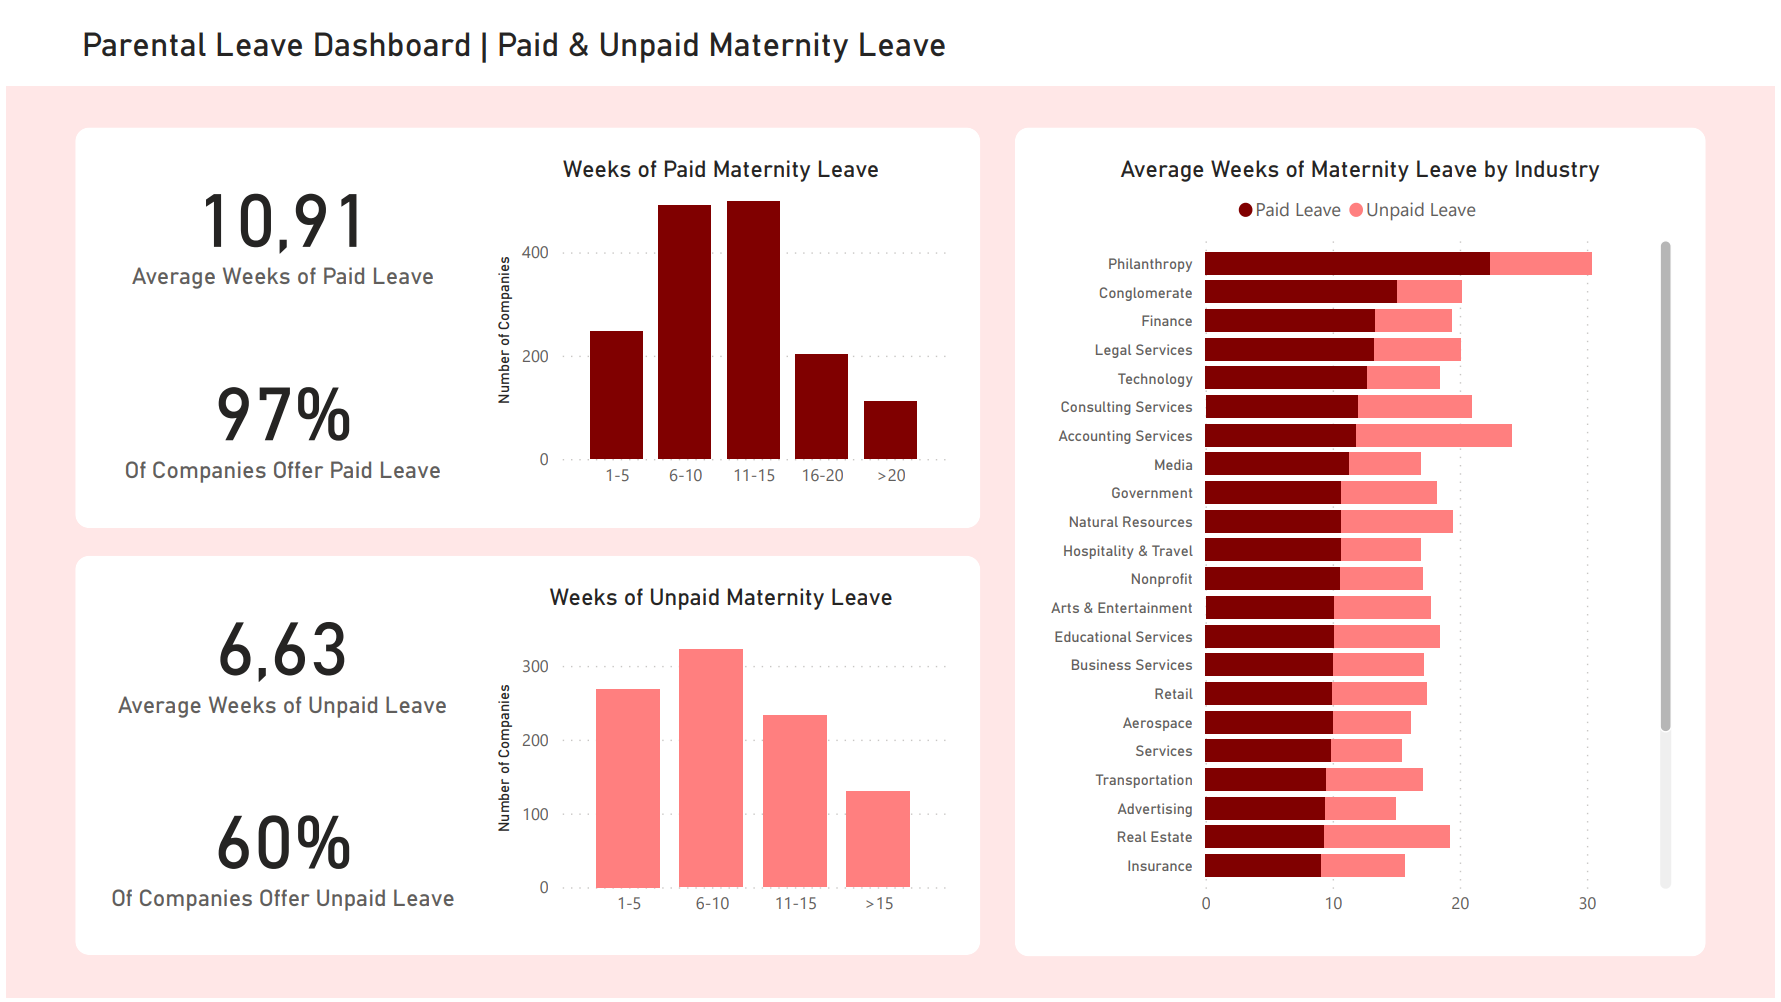

What the dashboard file says about the page in this screenshot:
{"tool":"powerbi","page":{"name":"Mother's","canvas":[1280,720],"ordinal":0},"visuals":[{"type":"shape","box":[0,0,1280,60.1],"z":0},{"type":"shape","box":[50,400,655,289.3],"z":1000},{"type":"shape","box":[50,90,655,290],"z":2000},{"type":"shape","box":[730,90,500,600],"z":3000},{"type":"barChart","title":"Average Weeks of Maternity Leave by Industry","fields":{"Category":["ParentalLeave.Industry"],"Y":["Avg(ParentalLeave.Paid Maternity Leave)","Avg(ParentalLeave.Unpaid Maternity Leave)"]},"box":[750,110,460,560],"z":4000},{"type":"card","fields":{"Values":["Avg(ParentalLeave.Paid Maternity Leave)"]},"box":[70.1,90,260.4,140.2],"z":5000},{"type":"card","fields":{"Values":["Avg(ParentalLeave.Unpaid Maternity Leave)"]},"box":[70,400,260.4,140],"z":6000},{"type":"card","title":"% Companies Offering Paid Leave","fields":{"Values":["ParentalLeave.%CompaniesPaidMaternityLeave"]},"box":[70.1,230,260.4,140.2],"z":7000},{"type":"card","title":"% Companies Offering Unpaid Leave","fields":{"Values":["ParentalLeave.%CompaniesUnpaidMaternityLeave"]},"box":[70.1,540,260.4,140.2],"z":8000},{"type":"columnChart","title":"Weeks of Unpaid Maternity Leave","fields":{"Y":["CountNonNull(ParentalLeave.Company)"],"Category":["ParentalLeave.UnpaidMaternityGroup"]},"box":[350,420,335,250],"z":9000},{"type":"clusteredColumnChart","title":"Weeks of Paid Maternity Leave","fields":{"Y":["CountNonNull(ParentalLeave.Company)"],"Category":["ParentalLeave.PaidMaternityGroup"]},"box":[350,110,335,250],"z":10000},{"type":"textbox","box":[50.1,11.1,655.5,49],"z":11000}]}

Visuals, with their boxes in screenshot pixels (x1, y1, x2, y2), scaled from the page's 1280x720 canvas onto the 1781x1002 screenshot:
shape: Rect(0, 0, 1780, 84)
shape: Rect(70, 557, 981, 959)
shape: Rect(70, 125, 981, 529)
shape: Rect(1016, 125, 1711, 960)
"Average Weeks of Maternity Leave by Industry" barChart: Rect(1044, 153, 1684, 932)
card - Avg(ParentalLeave.Paid Maternity Leave): Rect(98, 125, 460, 320)
card - Avg(ParentalLeave.Unpaid Maternity Leave): Rect(97, 557, 460, 752)
"% Companies Offering Paid Leave" card: Rect(98, 320, 460, 515)
"% Companies Offering Unpaid Leave" card: Rect(98, 752, 460, 947)
"Weeks of Unpaid Maternity Leave" columnChart: Rect(487, 584, 953, 932)
"Weeks of Paid Maternity Leave" clusteredColumnChart: Rect(487, 153, 953, 501)
textbox: Rect(70, 15, 982, 84)
